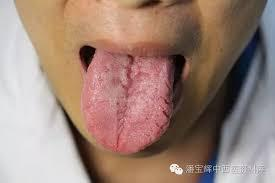baitaishe: (81, 56, 174, 154)
